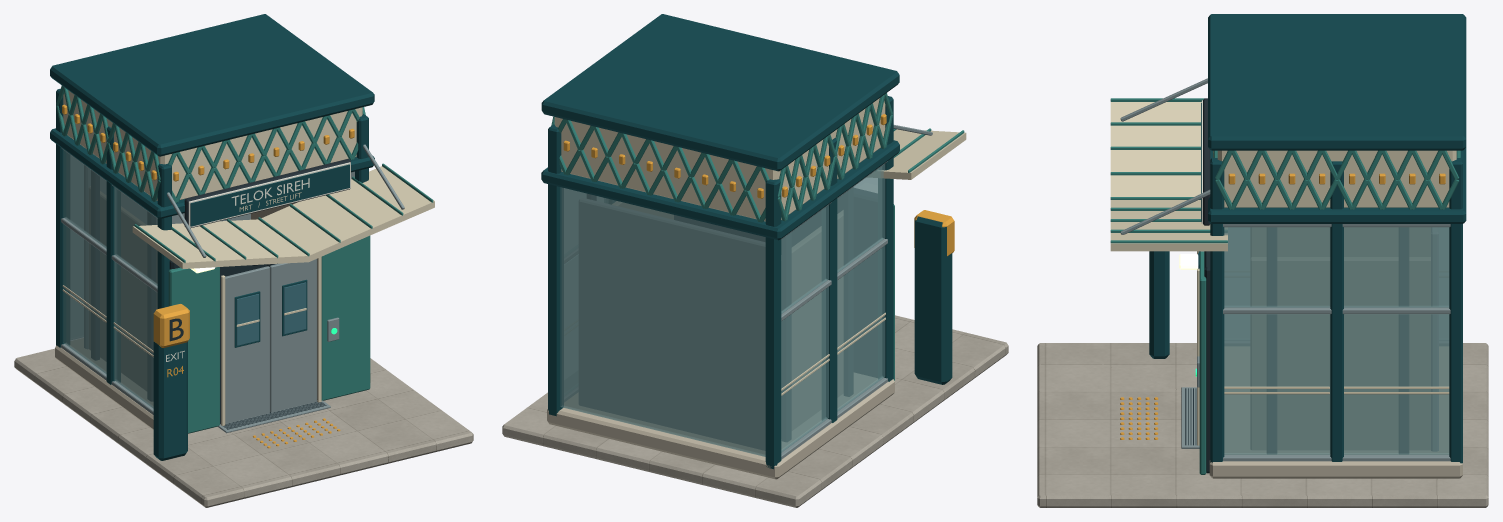
The picture shows the model from 3 angles, left to right: view 1: azimuth 30°, elevation 25°; view 2: azimuth 150°, elevation 25°; view 3: azimuth 270°, elevation 25°; orthographic projection. The views are drawn at different scales.
Parts seen in each view (by area): view 1: Lantern Cornice, Landing Raft, Side Lights, Jamb Cladding, Folded Rain Canopy, Lift Leaves, Tower Posts, Lantern Diffuser, Woven Sunbreak, Entrance Fascia, Exit Pylon, Inner Car Walls (+12 smaller); view 2: Rear Light, Lift Car Back, Lantern Cornice, Side Lights, Landing Raft, Tower Posts, Lantern Diffuser, Woven Sunbreak, Shaft Skirting, Exit Pylon, Inner Car Walls, Door Surround (+5 smaller); view 3: Side Lights, Lantern Cornice, Landing Raft, Inner Car Walls, Folded Rain Canopy, Tower Posts, Shaft Skirting, Lantern Diffuser, Woven Sunbreak, Glazing Bars, Car Guides, Standing Seams (+10 smaller).
Part boxes in pixels (x1,y1,x2,y2): Lantern Cornice: [50, 14, 374, 218]; Landing Raft: [14, 348, 473, 507]; Side Lights: [63, 150, 354, 408]; Jamb Cladding: [168, 235, 370, 433]; Folded Rain Canopy: [132, 166, 434, 268]; Lift Leaves: [225, 259, 316, 423]; Tower Posts: [56, 88, 368, 384]; Lantern Diffuser: [63, 90, 362, 200]; Woven Sunbreak: [56, 85, 365, 202]; Entrance Fascia: [184, 159, 350, 228]; Exit Pylon: [153, 304, 189, 460]; Inner Car Walls: [89, 186, 297, 390]; Rear Light: [560, 187, 765, 456]; Lift Car Back: [579, 198, 764, 449]; Lantern Cornice: [541, 14, 899, 240]; Side Lights: [564, 164, 885, 452]; Landing Raft: [502, 315, 1008, 507]; Tower Posts: [548, 96, 893, 469]; Lantern Diffuser: [554, 98, 885, 221]; Woven Sunbreak: [551, 93, 892, 222]; Shaft Skirting: [547, 373, 894, 479]; Exit Pylon: [914, 210, 954, 384]; Inner Car Walls: [612, 201, 842, 430]; Door Surround: [674, 188, 877, 377]; Side Lights: [1224, 227, 1449, 454]; Lantern Cornice: [1208, 14, 1466, 223]; Landing Raft: [1037, 343, 1488, 507]; Inner Car Walls: [1251, 228, 1430, 449]; Folded Rain Canopy: [1110, 102, 1227, 251]; Tower Posts: [1210, 157, 1462, 463]; Shaft Skirting: [1209, 347, 1462, 478]; Lantern Diffuser: [1217, 150, 1456, 207]; Woven Sunbreak: [1214, 150, 1460, 209]; Glazing Bars: [1223, 224, 1450, 461]; Car Guides: [1267, 228, 1408, 453]; Standing Seams: [1110, 98, 1227, 243].
Size of the model in its own units: 4.48 by 4.83 by 5.54.
Materials: 15 (1 with a texture image).
